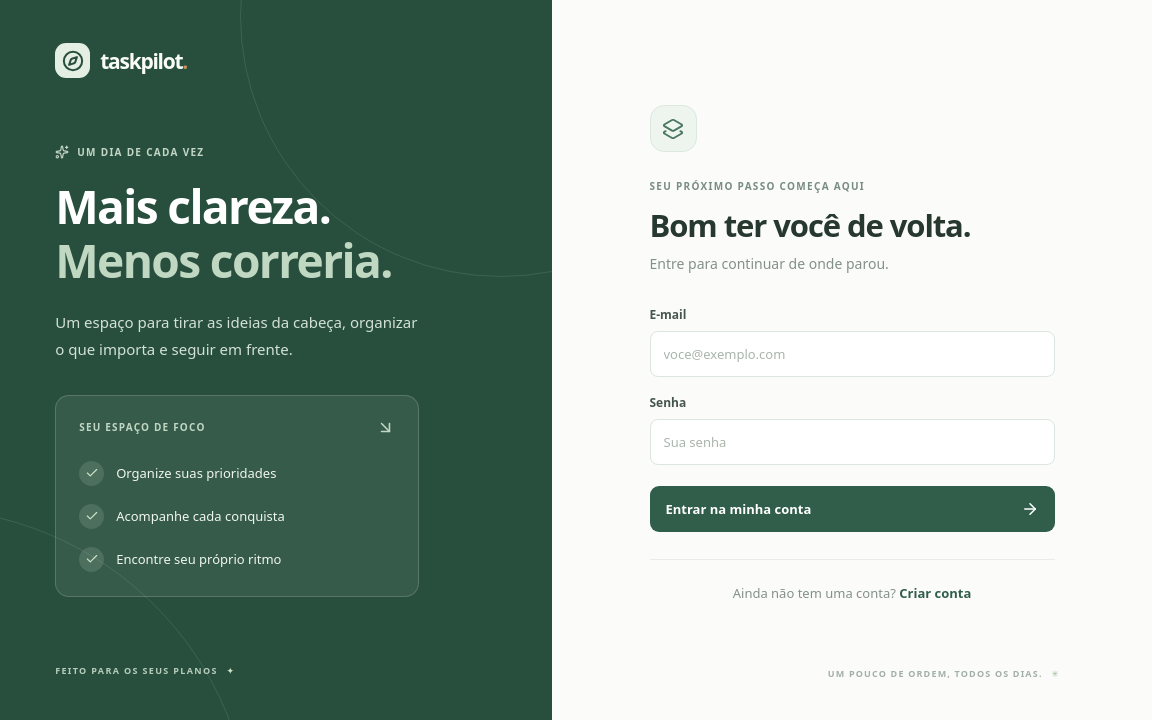
it: TaskPilot › bloqueia login pendente e permite solicitar outro e-mail de confirmação
Type "person@example.test" into the field labelled "E-mail" at [852, 354], box [650,331,1054,377]
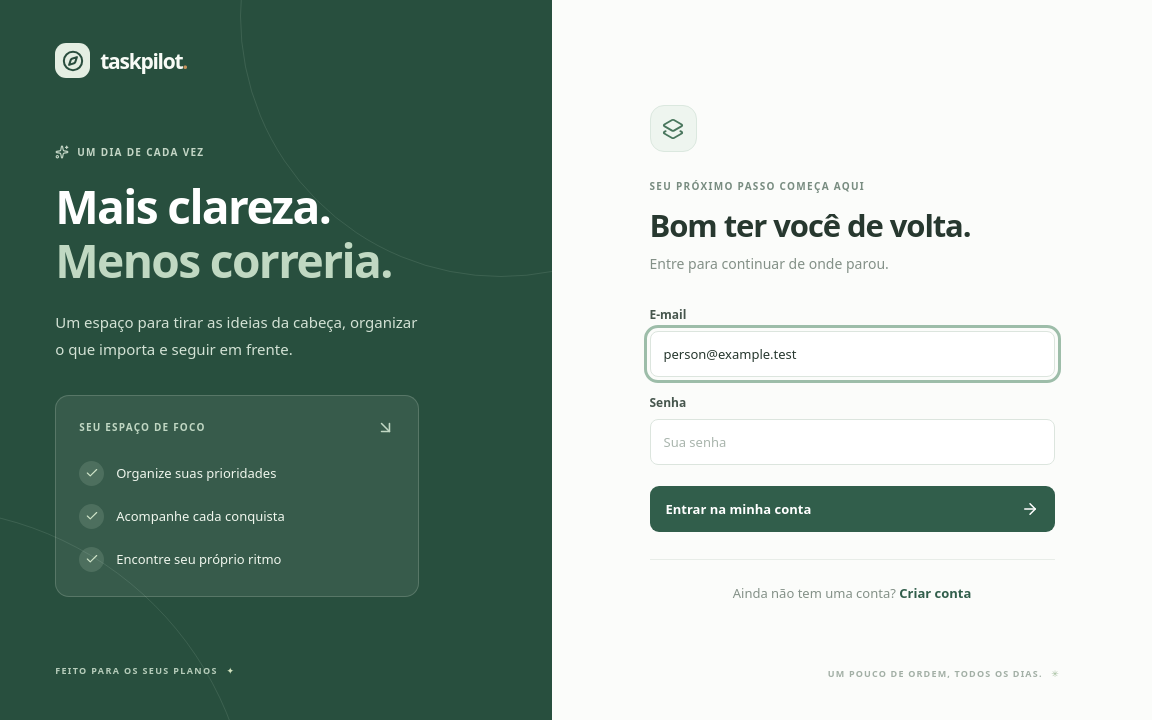
Type "TestPassword_12345" into the password field labelled "Senha" at [852, 442], box [650,419,1054,465]
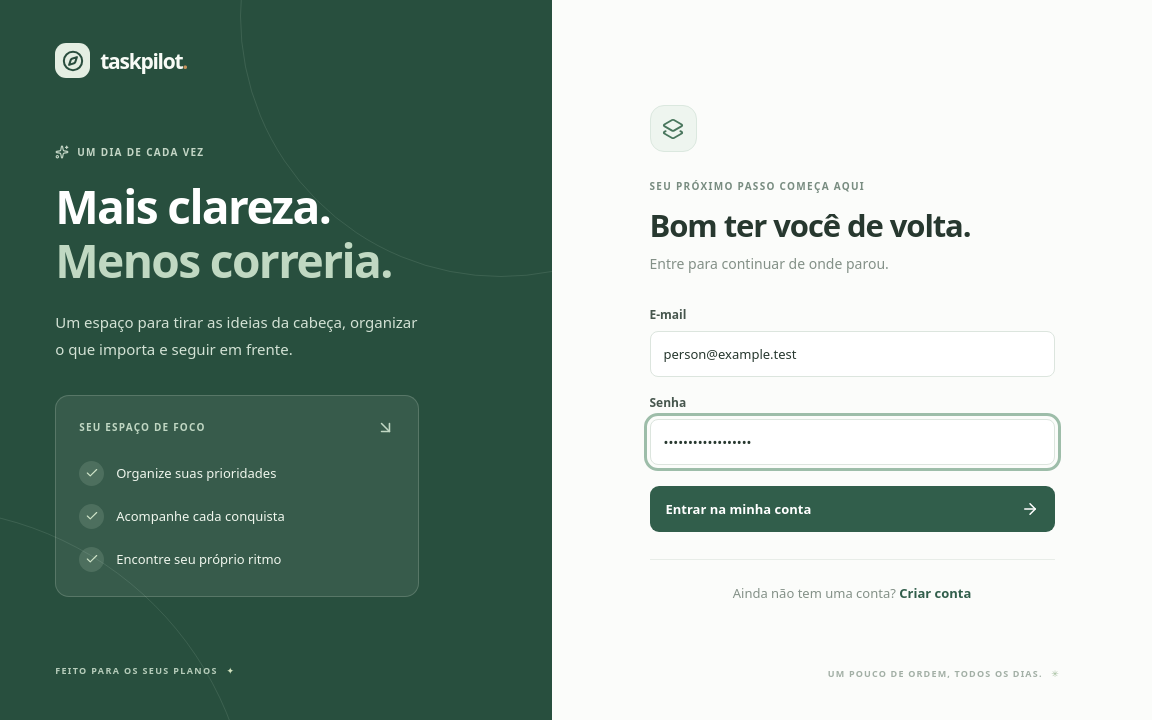
Click the button "Entrar na minha conta" at [738, 509], box [650,486,1054,532]
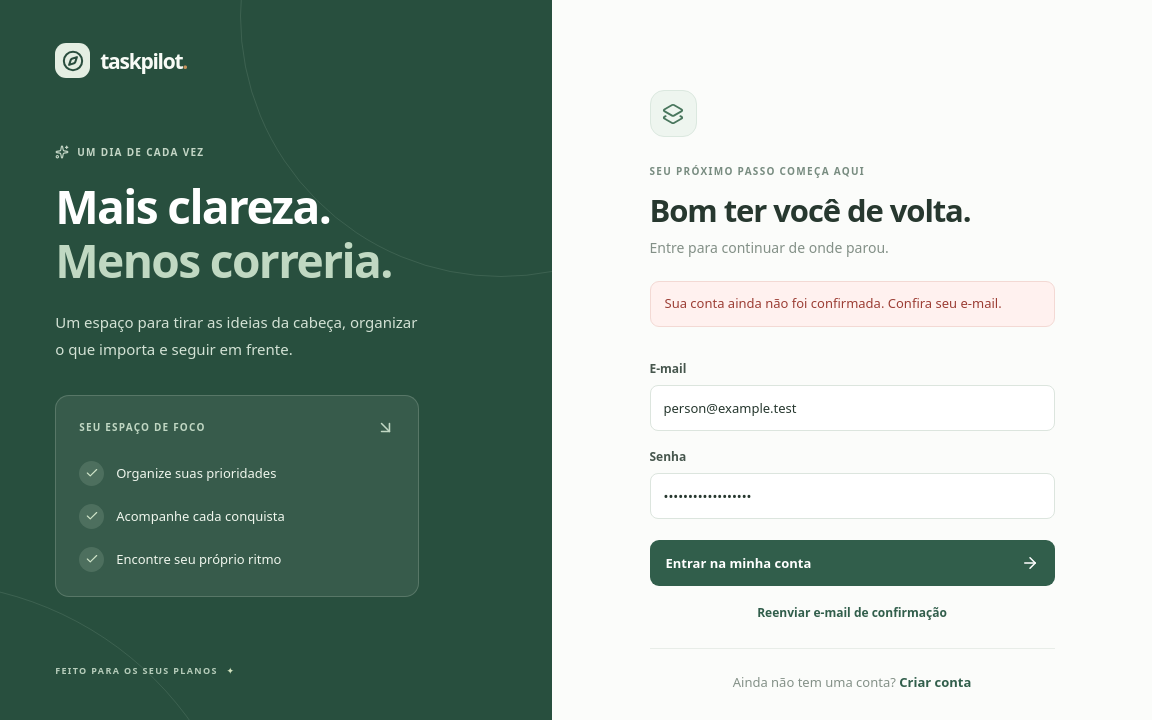
Expected: the message shows "Sua conta ainda não foi confirmada", [664,294,1002,312]
Click the button "Reenviar e-mail de confirmação" at [852, 612], box [757,604,947,621]
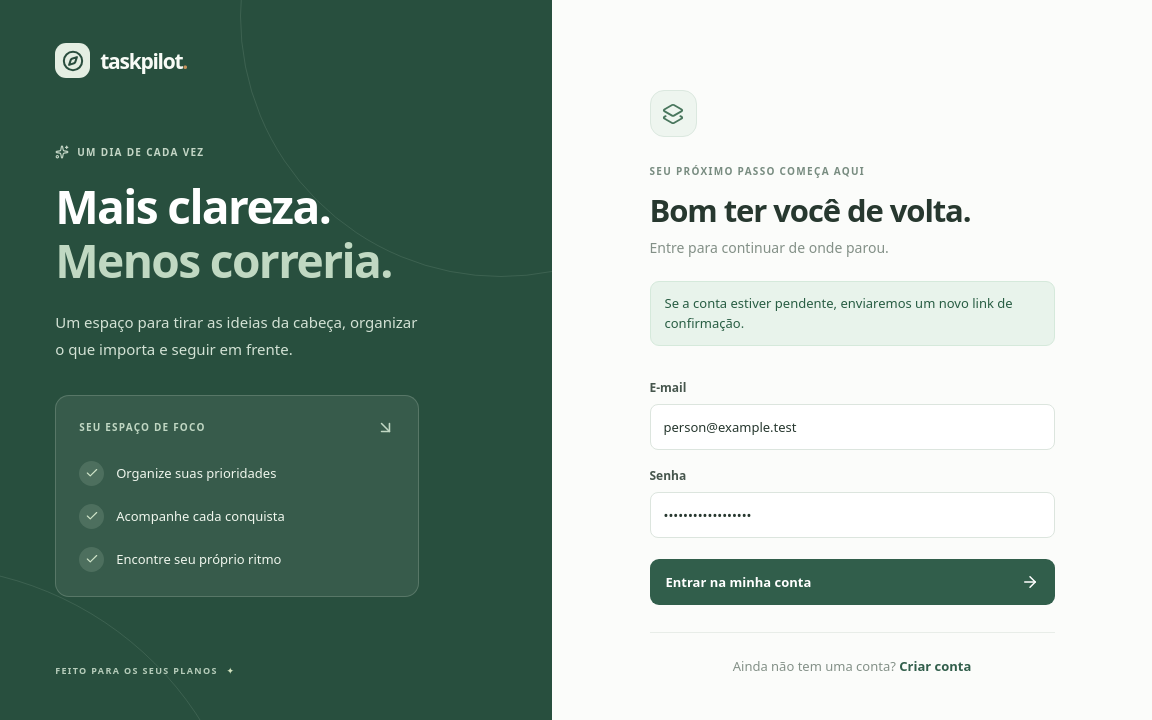
Expected: the message shows "Se a conta estiver pendente", [664,294,1013,332]
